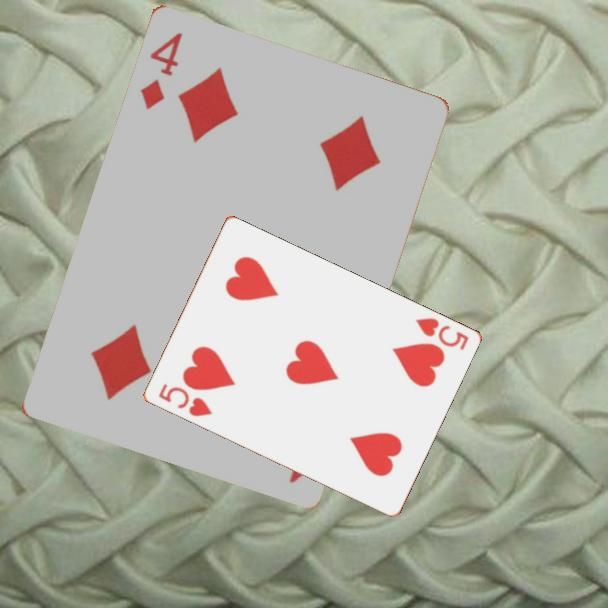d04: (136, 28, 185, 112)
h05: (155, 380, 215, 420), (412, 314, 471, 353)
